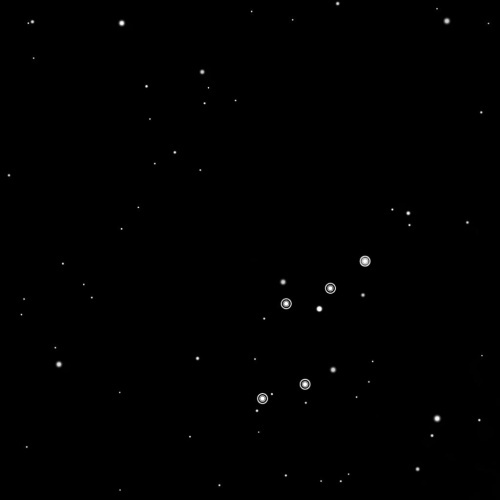lyra: (251, 250, 372, 411)
